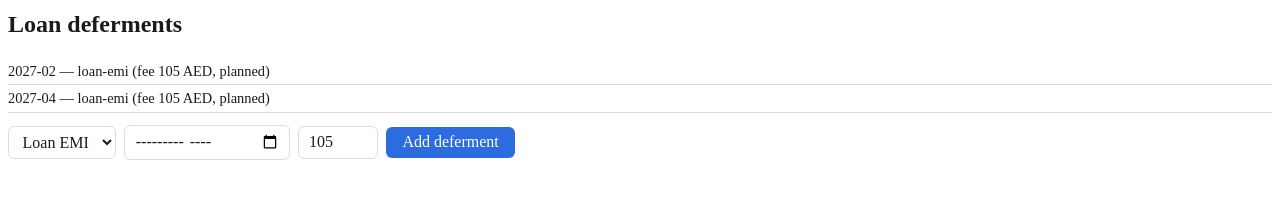
Scenario: DefermentPlanner › surfaces the server rejection message (e.g. the adjacent-month rule)
Step 1. Type "2027-03" into the field named "Deferment month" → coordinates (207, 142), box [124,125,290,160]
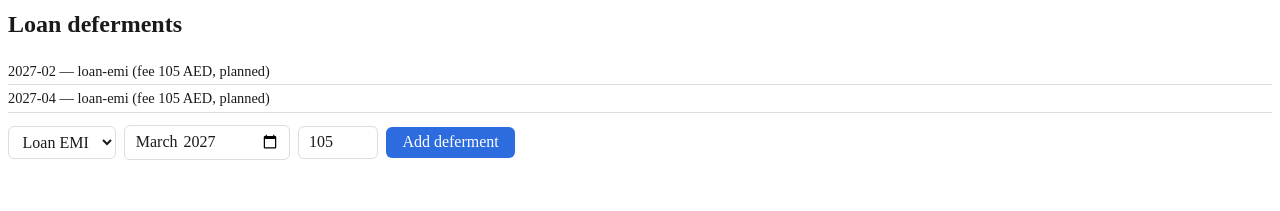
Step 2. Click the button "Add deferment" → coordinates (451, 142), box [386,127,515,158]
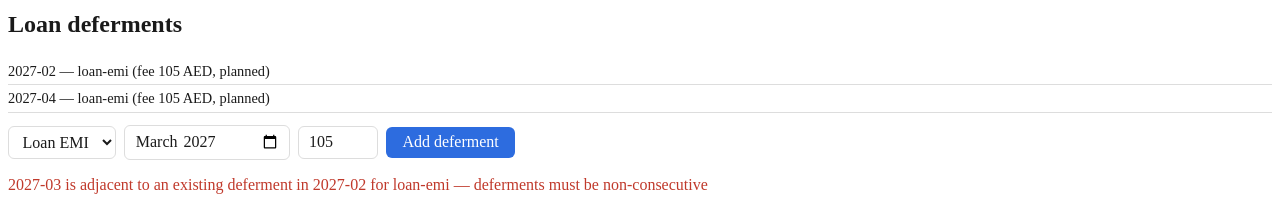
Now the text "must be non-consecutive" is shown, box [8,176,708,193]
